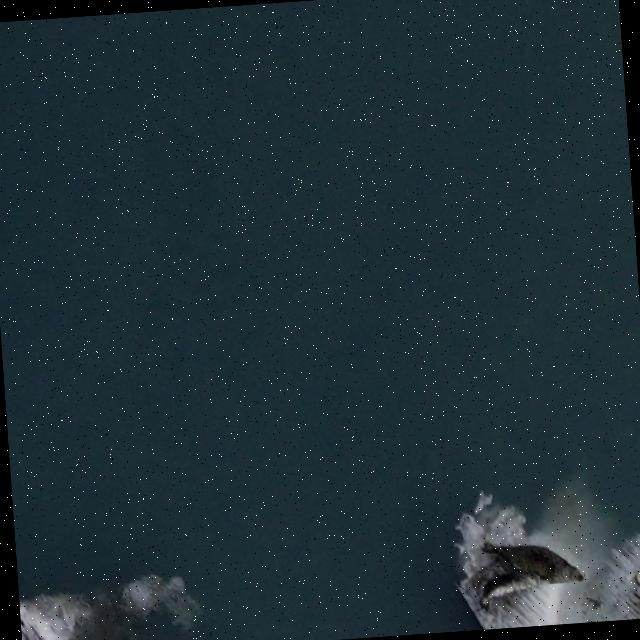seal: (477, 525, 590, 593), (472, 557, 541, 615)
